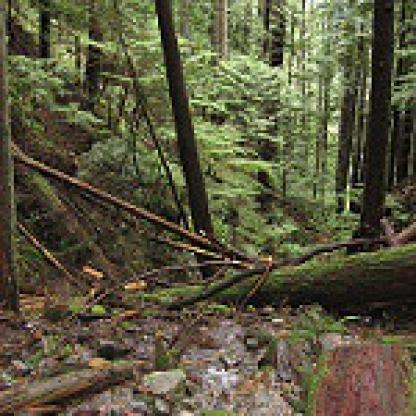trunk: (152, 0, 228, 280), (347, 0, 399, 261), (0, 0, 25, 316), (258, 0, 286, 219), (84, 0, 106, 100), (36, 0, 56, 58)
